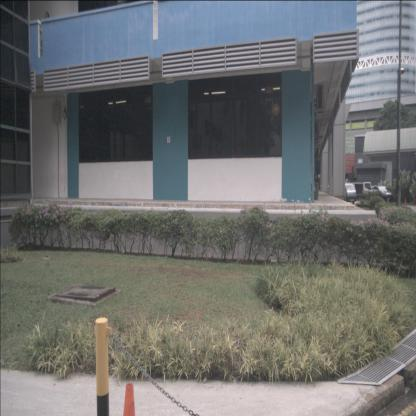movable_object-trafficcone: (123, 382, 135, 416)
vehicle-car: (367, 185, 393, 206), (338, 183, 356, 204)
vehicle-truck: (347, 182, 372, 203)
